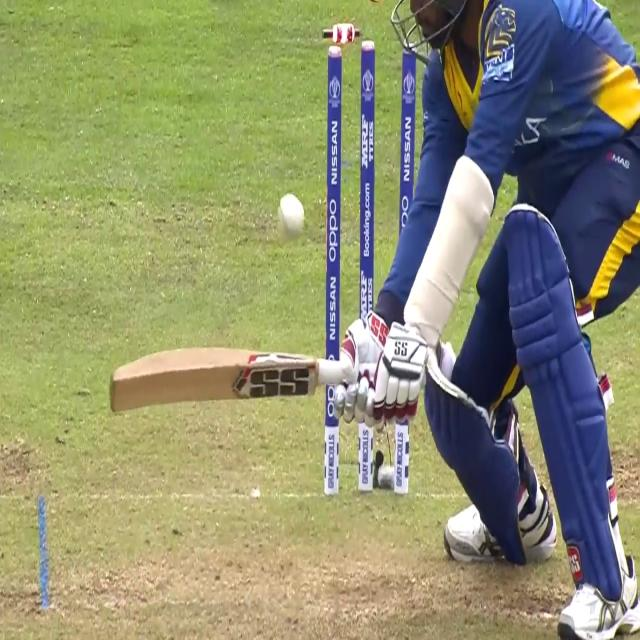ball: (278, 188, 307, 244)
